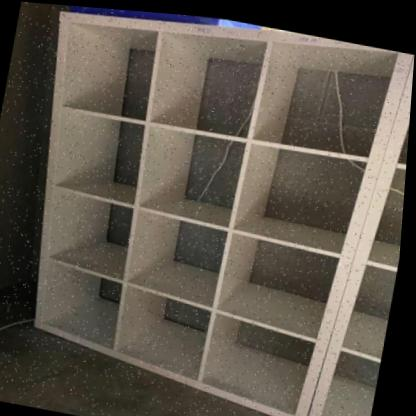Shelf: (0, 1, 416, 416)
